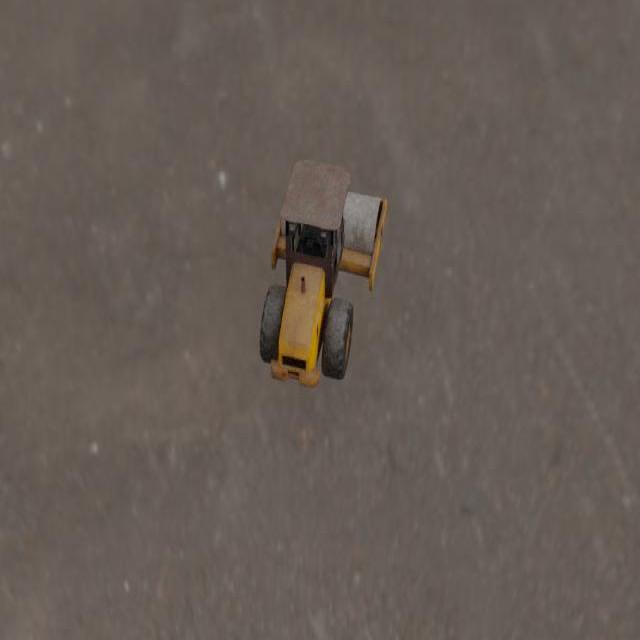Roller: (259, 159, 387, 388)
